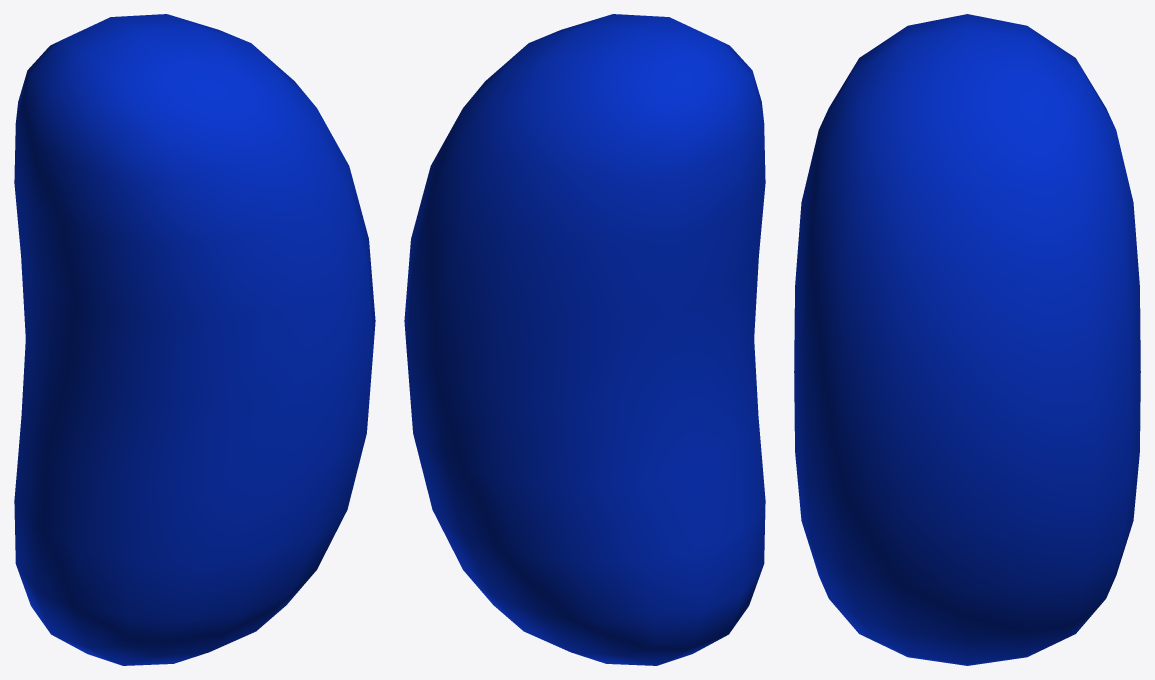
3 renders of one model, left to right at view 1: azimuth 30°, elevation 25°; view 2: azimuth 150°, elevation 25°; view 3: azimuth 270°, elevation 25°, orthographic.
Visible parts, largest first — view 1: Cube.1408; view 2: Cube.1408; view 3: Cube.1408.
Part boxes in pixels (x1,y1,x2,y2): Cube.1408: (14, 14, 375, 665); Cube.1408: (404, 14, 765, 665); Cube.1408: (794, 14, 1140, 665).
Bounding box in the file's own units: 0.2731 × 0.5138 × 0.2612.
